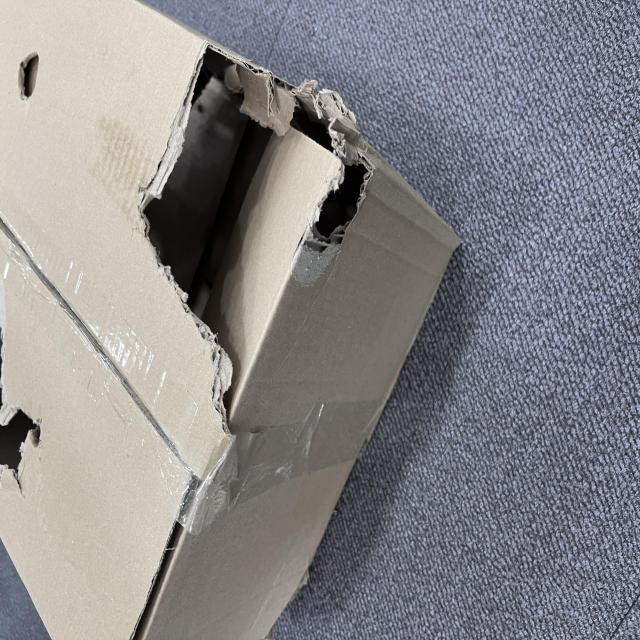damaged: (176, 191, 436, 396), (293, 389, 409, 481), (114, 0, 192, 58), (396, 13, 445, 63)
